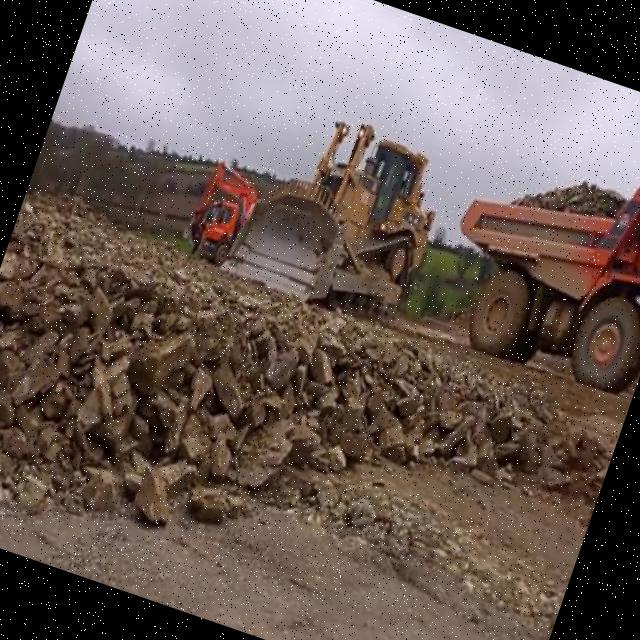Bulldozer: (218, 94, 460, 336)
Dump Truck: (420, 118, 640, 400)
